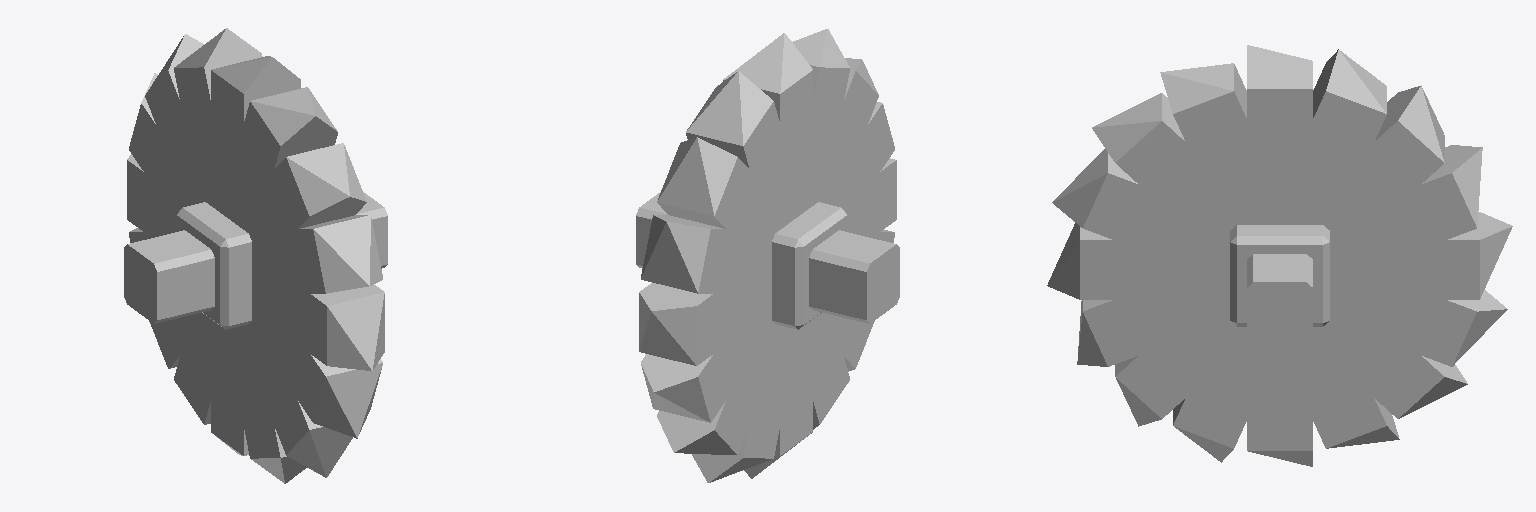
The model's file is building_lumbermill_red_building_lumbermill_saw_red.obj.
3 views of the same model, side by side, from view 1: azimuth 30°, elevation 25°; view 2: azimuth 150°, elevation 25°; view 3: azimuth 270°, elevation 25° (orthographic).
Parts seen in each view (by area): view 1: building_lumbermill_saw_red; view 2: building_lumbermill_saw_red; view 3: building_lumbermill_saw_red.
Part boxes in pixels (x1,y1,x2,y2): building_lumbermill_saw_red: (124, 28, 387, 483); building_lumbermill_saw_red: (636, 29, 899, 482); building_lumbermill_saw_red: (1047, 45, 1512, 466).
Size of the model in its own units: 0.28 by 0.49 by 0.49.